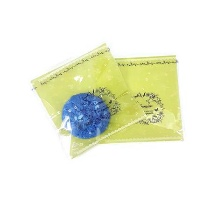snack: (26, 38, 151, 164), (87, 50, 188, 148)
